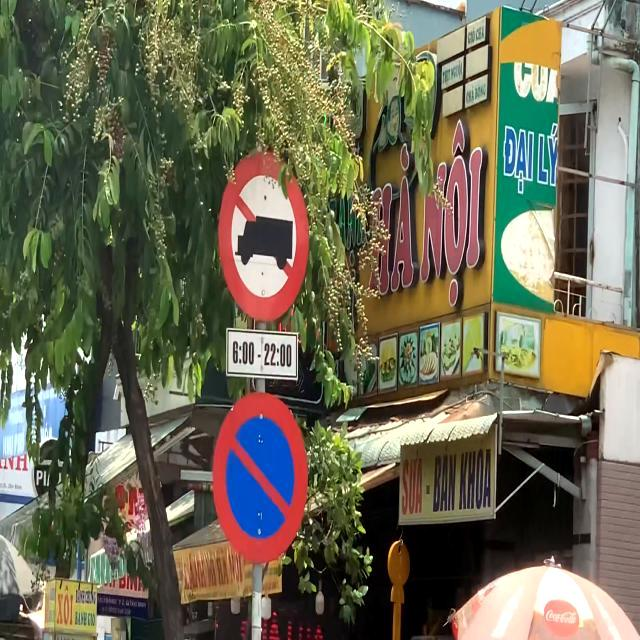Cam do xe: (212, 390, 309, 565)
Cam xe tai: (218, 148, 310, 322)
